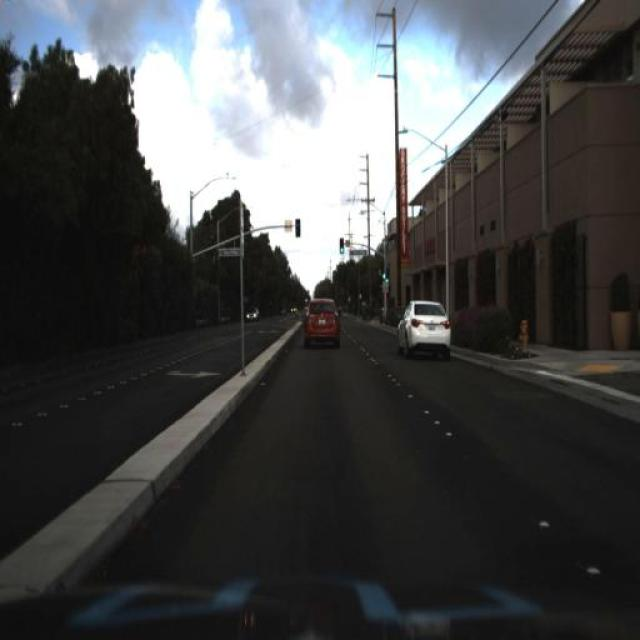car: (291, 290, 354, 360), (396, 293, 452, 367), (238, 302, 261, 327)
trafficLight-GreenLeft: (334, 234, 350, 264), (380, 269, 386, 287)
